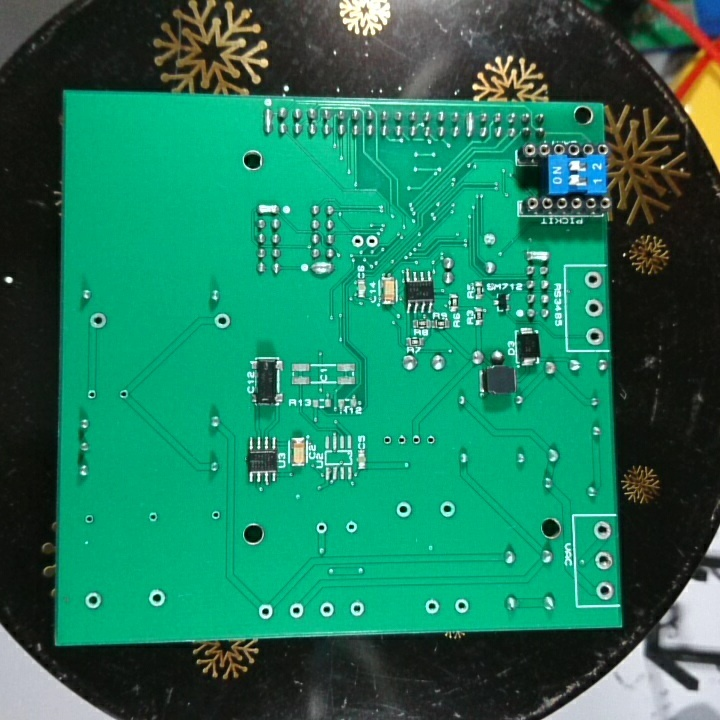F: (87, 309, 111, 334), (210, 309, 234, 334), (593, 578, 615, 603), (581, 269, 603, 293), (146, 586, 167, 610), (394, 497, 414, 522), (83, 588, 104, 611), (584, 325, 605, 347), (593, 549, 613, 572), (256, 601, 277, 622), (593, 518, 613, 540), (422, 596, 442, 618), (584, 297, 603, 319), (348, 598, 367, 620), (438, 497, 456, 520), (453, 596, 473, 616), (287, 601, 305, 622), (364, 229, 381, 251), (481, 229, 499, 249), (318, 599, 336, 618), (313, 518, 330, 538), (349, 231, 365, 252), (410, 429, 423, 452), (145, 509, 161, 526), (396, 429, 409, 449), (84, 386, 99, 403), (381, 432, 396, 449), (209, 508, 223, 526), (116, 385, 130, 403), (424, 431, 436, 452), (83, 513, 97, 528), (344, 518, 356, 535)
P: (521, 246, 553, 263), (254, 200, 283, 218), (261, 106, 276, 135), (463, 110, 477, 140), (309, 260, 335, 275)
